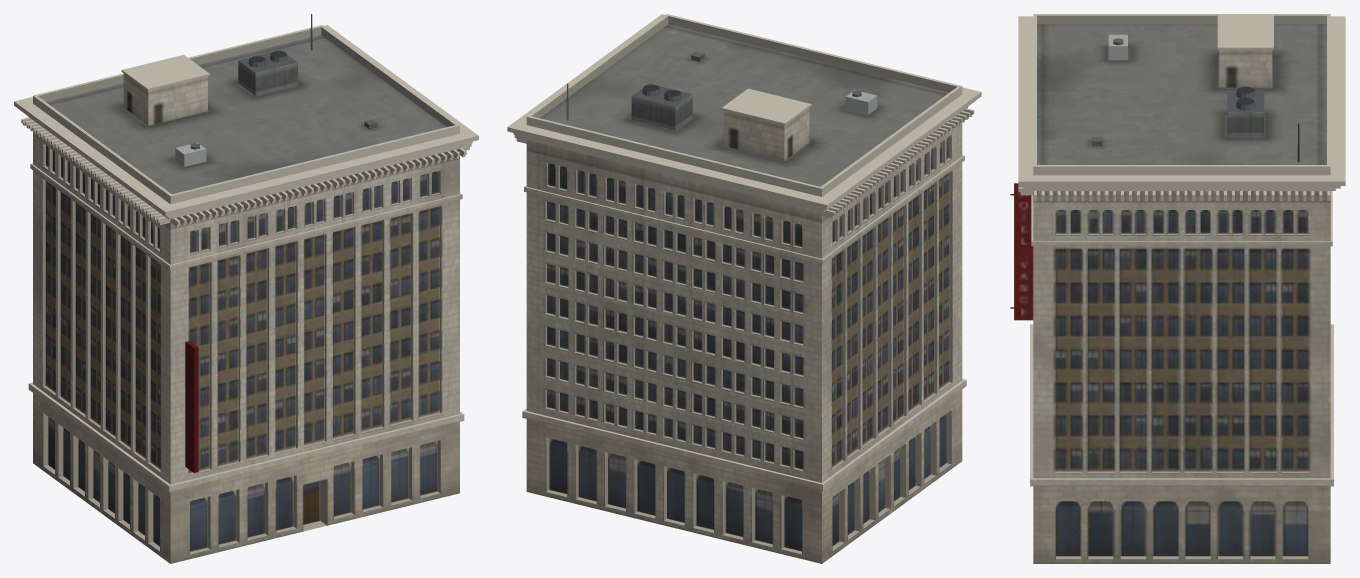
File: seattle_terracotta_a.glb
3 views of the same model, side by side, from view 1: azimuth 30°, elevation 25°; view 2: azimuth 150°, elevation 25°; view 3: azimuth 270°, elevation 25° (orthographic). The views are drawn at different scales.
Parts seen in each view (by area): view 1: seattle_terracotta_a; view 2: seattle_terracotta_a; view 3: seattle_terracotta_a.
Boxes of the visible parts, box(x1,y1,x2,y2) form: seattle_terracotta_a: box(14, 14, 478, 563); seattle_terracotta_a: box(507, 14, 981, 563); seattle_terracotta_a: box(1010, 14, 1345, 563).
Bounding box in the file's own units: 36.8 × 44.57 × 31.56.
Materials: 1 (1 with a texture image).
